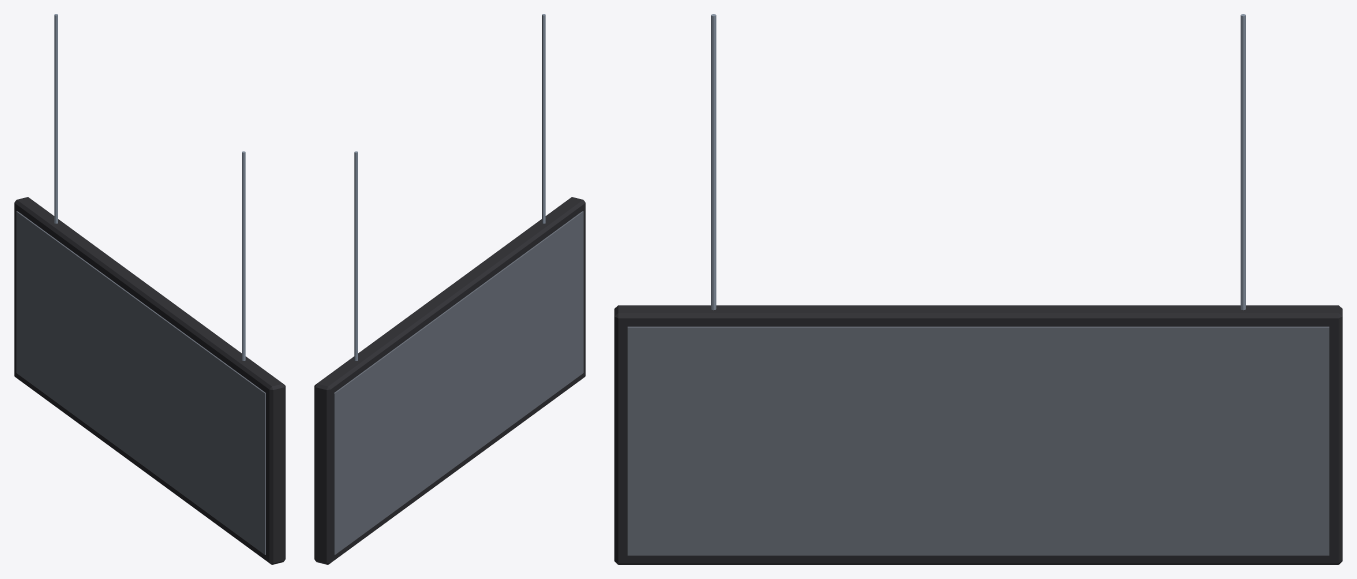
File: row_sign.fbx
The picture shows the model from 3 angles, left to right: view 1: azimuth 30°, elevation 25°; view 2: azimuth 150°, elevation 25°; view 3: azimuth 270°, elevation 25°; orthographic projection. The views are drawn at different scales.
Visible parts, largest first — view 1: Sign; view 2: Sign; view 3: Sign.
Boxes of the visible parts, x1=… form: Sign: x1=14, y1=14, x2=285, y2=564; Sign: x1=314, y1=14, x2=585, y2=564; Sign: x1=614, y1=14, x2=1342, y2=564.
Size of the model in its own units: 0.046 by 0.91 by 1.1.
